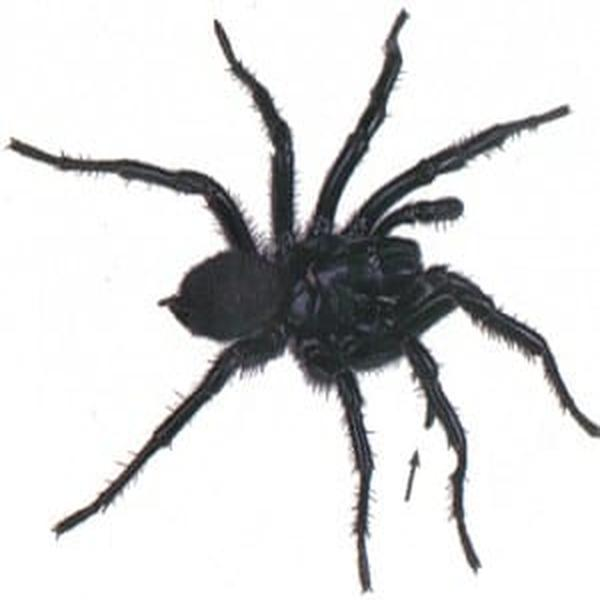Funnel Web Spider: (18, 12, 597, 581)
